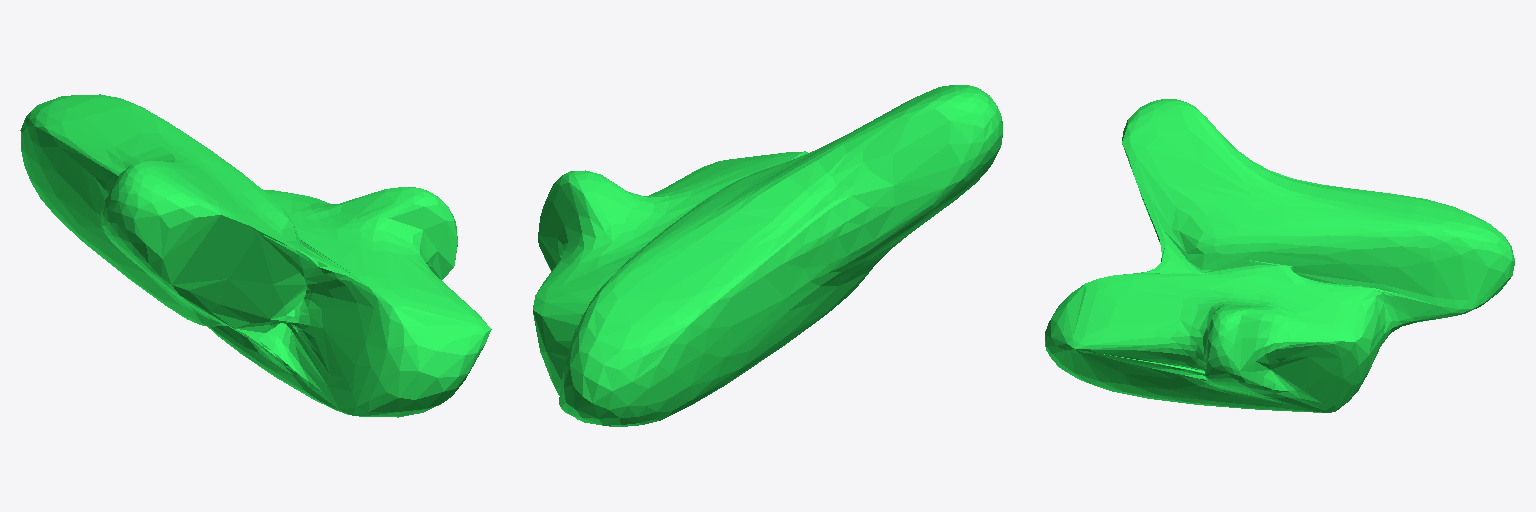
robot.urdf — blob716:

<robot name="blob716">
  <link name="random_obj_716">
    <contact>
      <lateral_friction value="1.0"/>
      <rolling_friction value="0.0"/>
      <inertia_scaling value="3.0"/>
      <contact_cfm value="0.0"/>
      <contact_erp value="1.0"/>
    </contact>
    <inertial>
      <origin rpy="0 0 0" xyz="0 0 0"/>
      <mass value="0.1066"/>
      <inertia ixx="1" ixy="0" ixz="0" iyy="1" iyz="0" izz="0"/>
    </inertial>
    <visual>
      <origin rpy="0 0 0" xyz="0 0 0"/>
      <geometry>
        <mesh filename="716.obj" scale="0.0082 0.0082 0.0082"/>
      </geometry>
      <material name="blockmat">
        <color rgba="0.23 0.97 0.42 1"/>
      </material>
    </visual>
    <collision>
      <origin rpy="0 0 0" xyz="0 0 0"/>
      <geometry>
        <mesh filename="716_coll.obj" scale="0.0082 0.0082 0.0082"/>
      </geometry>
    </collision>
  </link>
</robot>

--- Render facts (derived) ---
3 views of the same robot in one strip: view 1: azimuth 30°, elevation 25°; view 2: azimuth 150°, elevation 25°; view 3: azimuth 270°, elevation 25° (orthographic).
Model blob716 with 1 links and 0 joints (none), rooted at random_obj_716, posed every joint at zero.
Links seen in each view (by area): view 1: random_obj_716; view 2: random_obj_716; view 3: random_obj_716.
Link boxes in pixels (x1,y1,x2,y2): random_obj_716: (20, 94, 491, 417); random_obj_716: (533, 85, 1002, 426); random_obj_716: (1045, 99, 1514, 412).
Size in the robot's own frame: 0.0966 by 0.135 by 0.0695 metres.
1 mesh visuals loaded from 1 distinct referenced files (1 OBJ).
